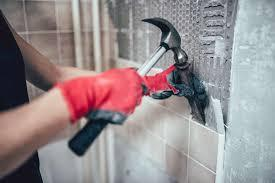hammer: (66, 14, 189, 156)
